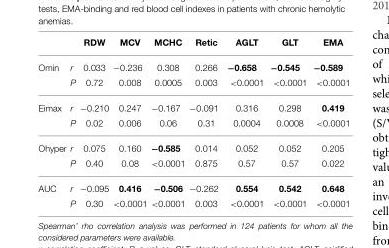table: (37, 37, 349, 208)
table column: (222, 37, 266, 208), (266, 37, 309, 208), (309, 37, 349, 208), (110, 37, 148, 208), (148, 37, 186, 208), (186, 37, 222, 208), (77, 37, 110, 208), (37, 37, 67, 208), (67, 37, 77, 208)
table column header: (37, 37, 349, 54)
table row: (37, 54, 349, 75), (37, 175, 349, 196), (37, 75, 349, 95), (37, 95, 349, 115), (37, 115, 349, 135), (37, 135, 349, 155), (37, 155, 349, 175), (37, 37, 349, 54), (37, 196, 349, 208)
table spanning cell: (37, 54, 67, 95), (37, 95, 67, 135), (37, 135, 67, 175), (37, 175, 67, 208)
